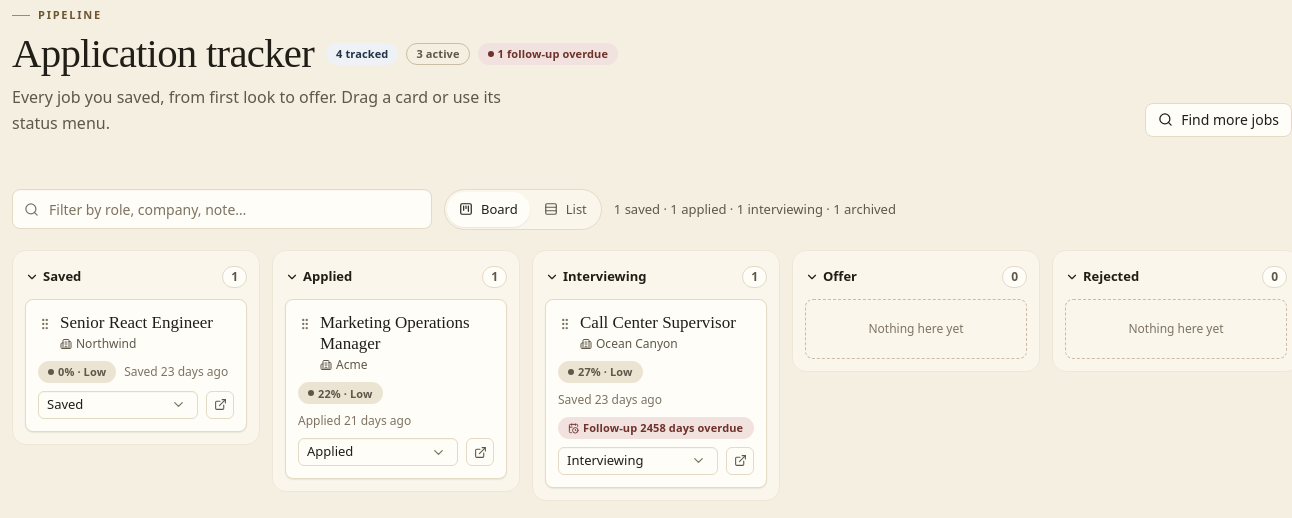
Test: Tracker board › switches to the sortable list view
Click the button "List". click: {"x": 565, "y": 209}
box: x1=532 y1=192 x2=599 y2=227
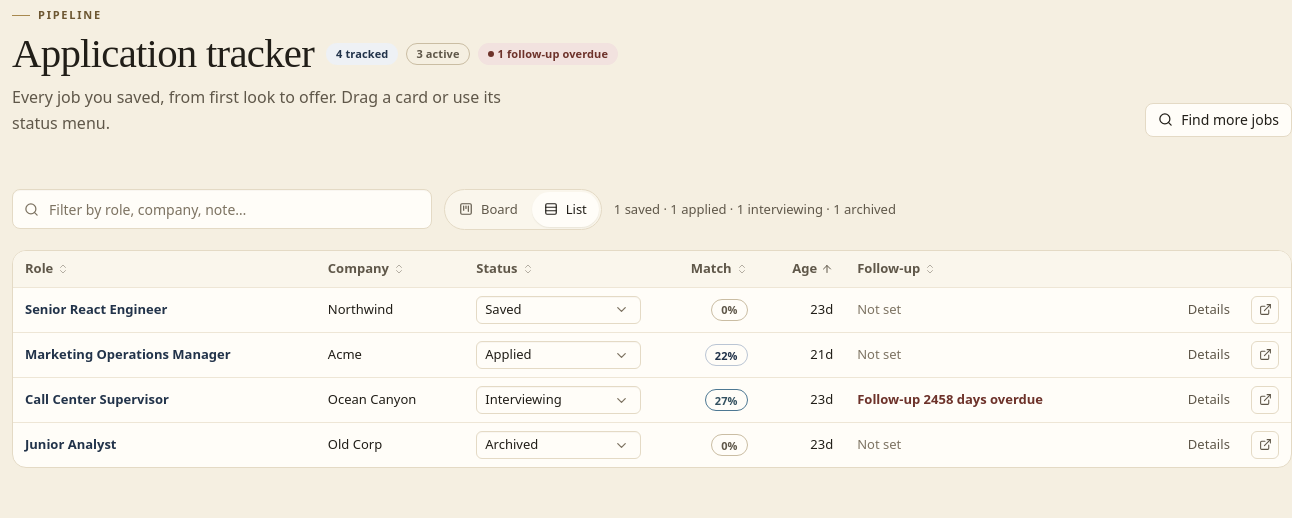
expect the column heading "Role" is shown: met, box x1=13 y1=251 x2=316 y2=287
expect the number of rows is 5: met, box x1=13 y1=251 x2=1291 y2=287; x1=13 y1=288 x2=1291 y2=333; x1=13 y1=333 x2=1291 y2=378; x1=13 y1=378 x2=1291 y2=423; x1=13 y1=423 x2=1291 y2=467
